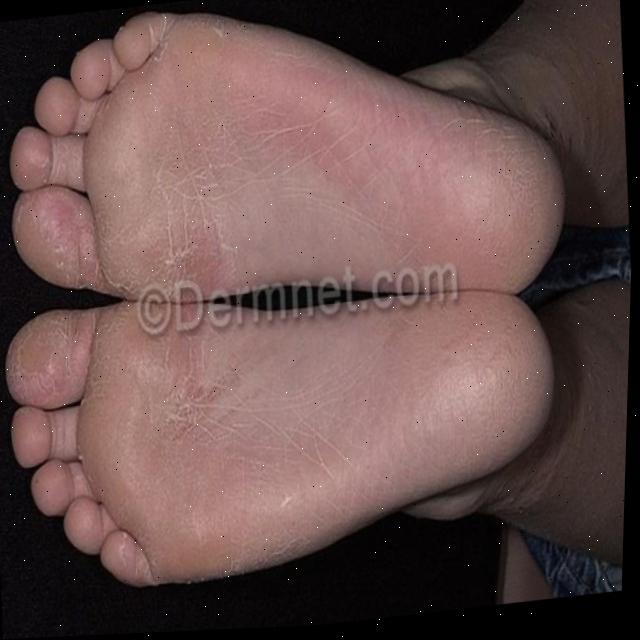Eczema: (28, 14, 520, 536)
